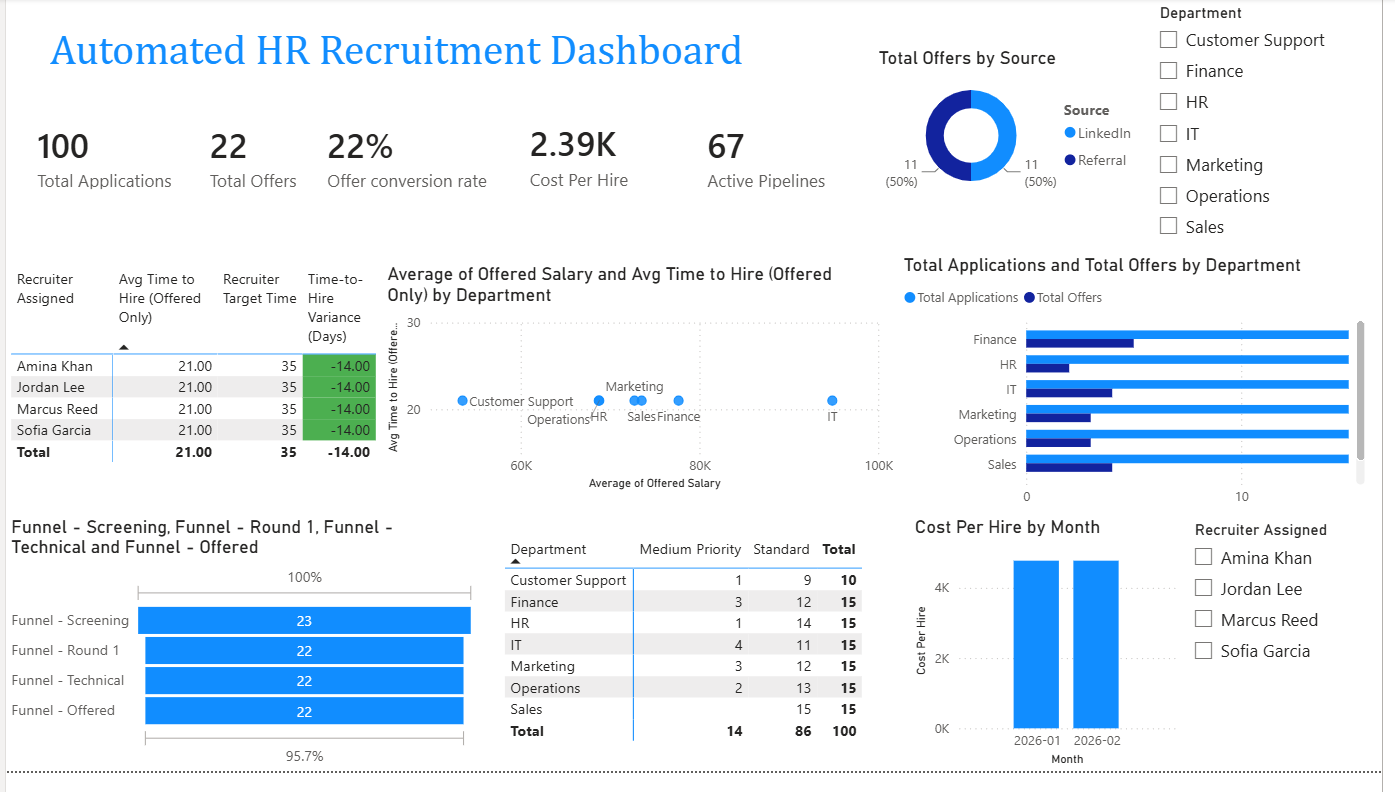

The dashboard page shown, as its layout file describes it:
{"tool":"powerbi","page":{"name":"Page 1","canvas":[1280,720],"ordinal":0},"visuals":[{"type":"cardVisual","fields":{"Data":["Sheet1.Total Applications"]},"box":[0,102.5,195,105],"z":0},{"type":"cardVisual","fields":{"Data":["Sheet1.Active Pipelines"]},"box":[640,103.8,176.2,103.8],"z":1000},{"type":"cardVisual","fields":{"Data":["Sheet1.Cost Per Hire"]},"box":[488.8,102.5,161.2,106.2],"z":2000},{"type":"cardVisual","fields":{"Data":["Sheet1.Total Offers"]},"box":[158.8,102.5,143.8,103.8],"z":3000},{"type":"funnel","title":"Recruitment Pipeline Progression(Stage_wise Yield)","fields":{"Y":["Sheet1.Funnel - Screening","Sheet1.Funnel - Round 1","Sheet1.Funnel - Technical","DateTable.Funnel - Offered"]},"box":[0,481.5,442.5,238],"z":4000},{"type":"cardVisual","fields":{"Rows":["Sheet1.Source"],"Data":["Sheet1.Total Offers"]},"box":[821.2,45,223.8,163.8],"z":5000},{"type":"pivotTable","fields":{"Rows":["Sheet1.Recruiter Assigned"],"Values":["Sheet1.Avg Time to Hire (Offered Only)","Sheet1.Recruiter Target Time (Days)","Sheet1.Time-to-Hire Variance (Days)"]},"box":[0,245,360,218.8],"z":6000},{"type":"clusteredBarChart","fields":{"Category":["Sheet1.Department"],"Y":["Sheet1.Total Applications","Sheet1.Total Offers"]},"box":[853.8,235,416.2,267.5],"z":7000},{"type":"slicer","fields":{"Values":["Sheet1.Department"]},"box":[1053.8,0,203.8,235],"z":8000},{"type":"textbox","title":"Automated HR Recruitment Dashboard","box":[35.6,27.6,679.3,44.8],"z":9000},{"type":"cardVisual","fields":{"Data":["DateTable.Offer conversion rate"]},"box":[283.8,102.5,216.2,105],"z":10000},{"type":"scatterChart","fields":{"X":["Avg(Sheet1.Offered Salary)"],"Category":["Sheet1.Department"],"Y":["Sheet1.Avg Time to Hire (Offered Only)"]},"box":[375,245,466.2,216.2],"z":12000},{"type":"clusteredColumnChart","fields":{"Category":["DateTable.Month"],"Y":["Sheet1.Cost Per Hire"]},"box":[830,502.5,263.8,216.2],"z":13000},{"type":"pivotTable","fields":{"Rows":["Sheet1.Department"],"Columns":["Sheet1.Priority"],"Values":["CountNonNull(Sheet1.Candidate ID)"]},"box":[458.8,481.2,362.5,237.5],"z":14000},{"type":"slicer","fields":{"Values":["Sheet1.Recruiter Assigned"]},"box":[1102.5,513.8,177.5,205],"z":15000}]}

Visuals, with their boxes in screenshot pixels (x1, y1, x2, y2), scaled from the page's 1280x720 canvas onto the 1395x792 screenshot:
cardVisual - Sheet1.Total Applications: region(0, 113, 213, 228)
cardVisual - Sheet1.Active Pipelines: region(698, 114, 890, 228)
cardVisual - Sheet1.Cost Per Hire: region(533, 113, 708, 230)
cardVisual - Sheet1.Total Offers: region(173, 113, 330, 227)
"Recruitment Pipeline Progression(Stage_wise Yield)" funnel: region(0, 530, 482, 791)
cardVisual - Sheet1.Source x Sheet1.Total Offers: region(895, 50, 1139, 230)
pivotTable - Sheet1.Recruiter Assigned x Sheet1.Avg Time to Hire (Offered Only): region(0, 270, 392, 510)
clusteredBarChart - Sheet1.Department x Sheet1.Total Applications: region(931, 258, 1384, 553)
slicer - Sheet1.Department: region(1148, 0, 1371, 258)
"Automated HR Recruitment Dashboard" textbox: region(39, 30, 779, 80)
cardVisual - DateTable.Offer conversion rate: region(309, 113, 545, 228)
scatterChart - Avg(Sheet1.Offered Salary) x Sheet1.Department: region(409, 270, 917, 507)
clusteredColumnChart - DateTable.Month x Sheet1.Cost Per Hire: region(905, 553, 1192, 791)
pivotTable - Sheet1.Department x Sheet1.Priority: region(500, 529, 895, 791)
slicer - Sheet1.Recruiter Assigned: region(1202, 565, 1394, 791)
